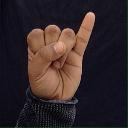hand: (26, 11, 95, 101)
